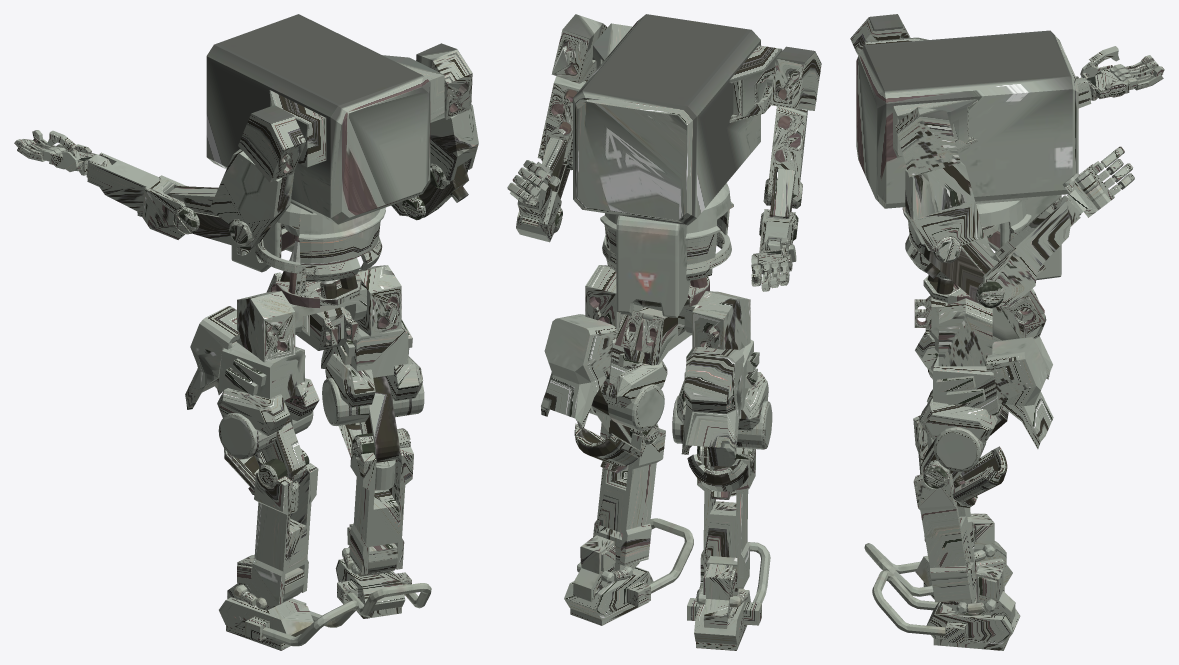
File: soldier.glb
3 renders of one model, left to right at view 1: azimuth 30°, elevation 25°; view 2: azimuth 150°, elevation 25°; view 3: azimuth 270°, elevation 25°, orthographic.
Visible parts, largest first — view 1: head_low_Material.006_0; view 2: head_low_Material.006_0; view 3: head_low_Material.006_0.
Part boxes in pixels (x1=…): head_low_Material.006_0: x1=14, y1=14, x2=478, y2=650; head_low_Material.006_0: x1=507, y1=14, x2=821, y2=650; head_low_Material.006_0: x1=850, y1=14, x2=1164, y2=650.
Bounding box in the file's own units: 0.6469 × 1 × 0.513.
1 material, 1 textured.
